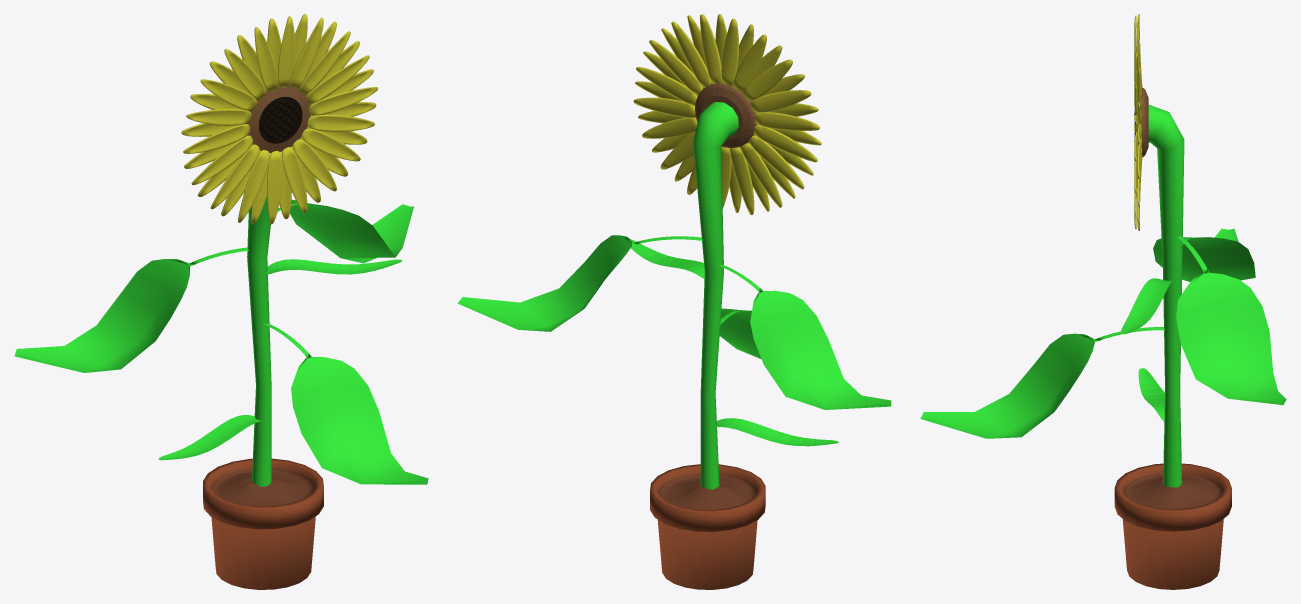
File: sunflower8.fbx
The picture shows the model from 3 angles, left to right: view 1: azimuth 30°, elevation 25°; view 2: azimuth 150°, elevation 25°; view 3: azimuth 270°, elevation 25°; orthographic projection. The views are drawn at different scales.
Visible parts, largest first — view 1: Plane.001, Circle.001, Plane.004, Plane.003, Plane, Vert, Plane.005, Circle, Plane.006, Plane.002; view 2: Plane, Circle.001, Plane.003, Vert, Plane.001, Plane.005, Circle, Plane.004, Plane.006, Plane.002; view 3: Circle.001, Plane.005, Vert, Plane.004, Plane.003, Plane.002, Plane, Plane.006, Plane.001, Circle.
Part boxes in pixels (x1,y1,x2,y2): Plane.001: (183, 16, 377, 224); Circle.001: (203, 458, 323, 589); Plane.004: (263, 323, 428, 484); Plane.003: (14, 247, 248, 372); Plane: (181, 14, 376, 223); Vert: (247, 197, 271, 486); Plane.005: (277, 199, 413, 263); Circle: (246, 84, 310, 152); Plane.006: (158, 415, 264, 460); Plane.002: (266, 259, 401, 274); Plane: (633, 14, 819, 214); Circle.001: (650, 464, 765, 589); Plane.003: (719, 264, 891, 409); Vert: (693, 102, 738, 489); Plane.001: (635, 14, 821, 212); Plane.005: (457, 235, 702, 331); Circle: (695, 82, 756, 147); Plane.004: (719, 304, 807, 359); Plane.006: (712, 418, 838, 446); Plane.002: (630, 239, 704, 278); Circle.001: (1114, 463, 1231, 589); Plane.005: (1176, 236, 1286, 405); Vert: (1148, 105, 1184, 487); Plane.004: (920, 327, 1164, 438); Plane.003: (1153, 228, 1255, 281); Plane.002: (1121, 278, 1171, 334); Plane: (1137, 14, 1142, 230); Plane.006: (1138, 368, 1164, 421); Plane.001: (1134, 15, 1138, 229); Circle: (1134, 87, 1148, 157).
Bounding box in the file's own units: 4740 × 6034 × 3674.
